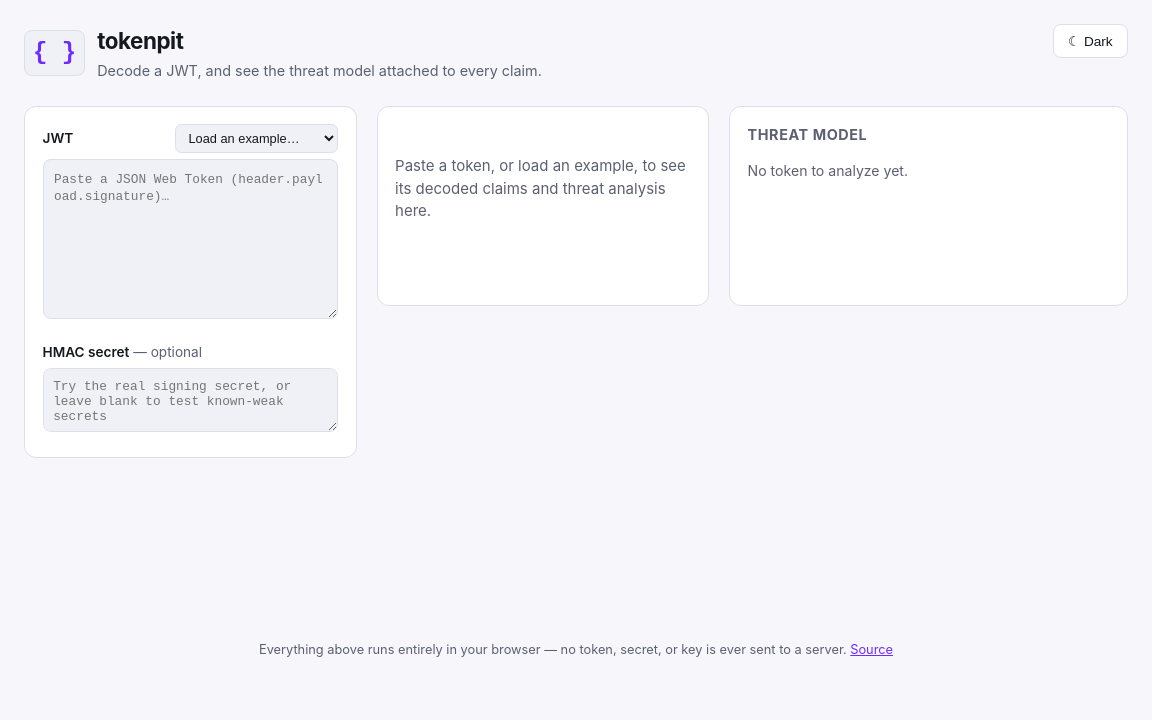
App › loading the alg-none example surfaces the critical alg-none finding
The width and height of the screenshot is (1152, 720).
Select "\"alg\": \"none\" — unsecured token" in the dropdown named "load an example" at (257, 138), box left=176, top=124, right=338, bottom=153
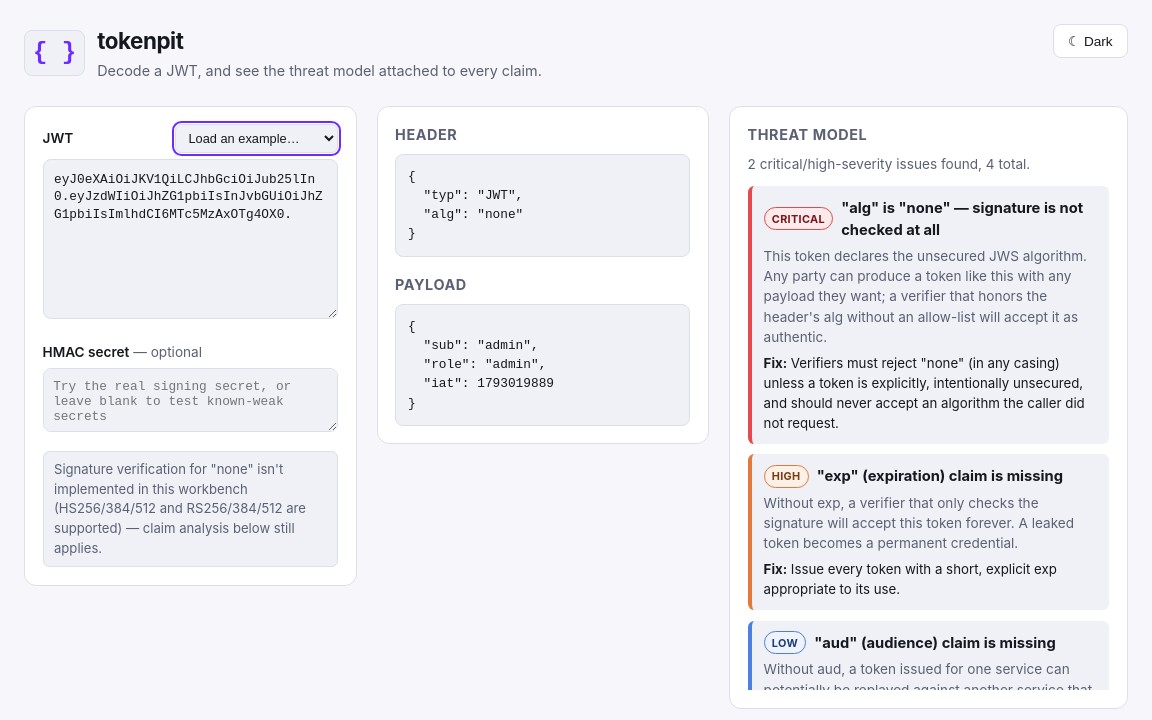
Check: the text "Critical" is shown, box left=764, top=207, right=833, bottom=230
